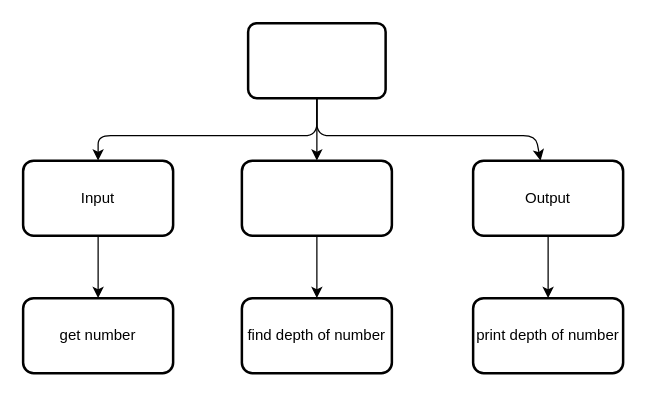
The diagram is 645 pixels wide and 395 high, and some of its shapes have lost their labels. Here are the shapes that lost their labels. From the top down, the centre of each, then its label:
the point at 316,60: Palindrom depth
the point at 316,197: Process
